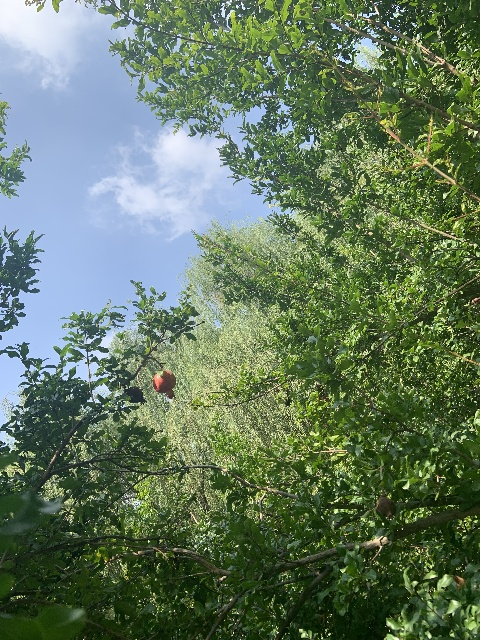flower: (152, 370, 176, 399)
